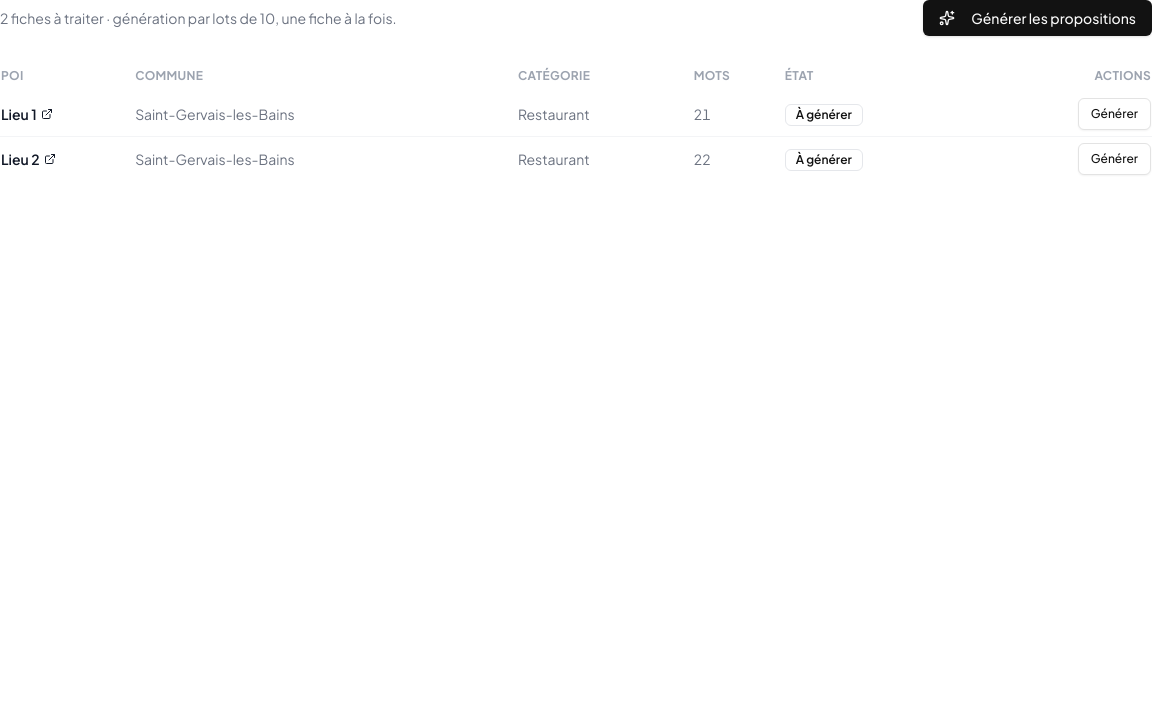
Test case: 098 — file d’enrichissement des descriptions › AC-01-05: insufficient sources show no proposal; « Ignorer » leaves the description untouched
Click the button "Générer" in the row of "Lieu 1". click: (1114, 114)
box: [1078,98,1151,130]
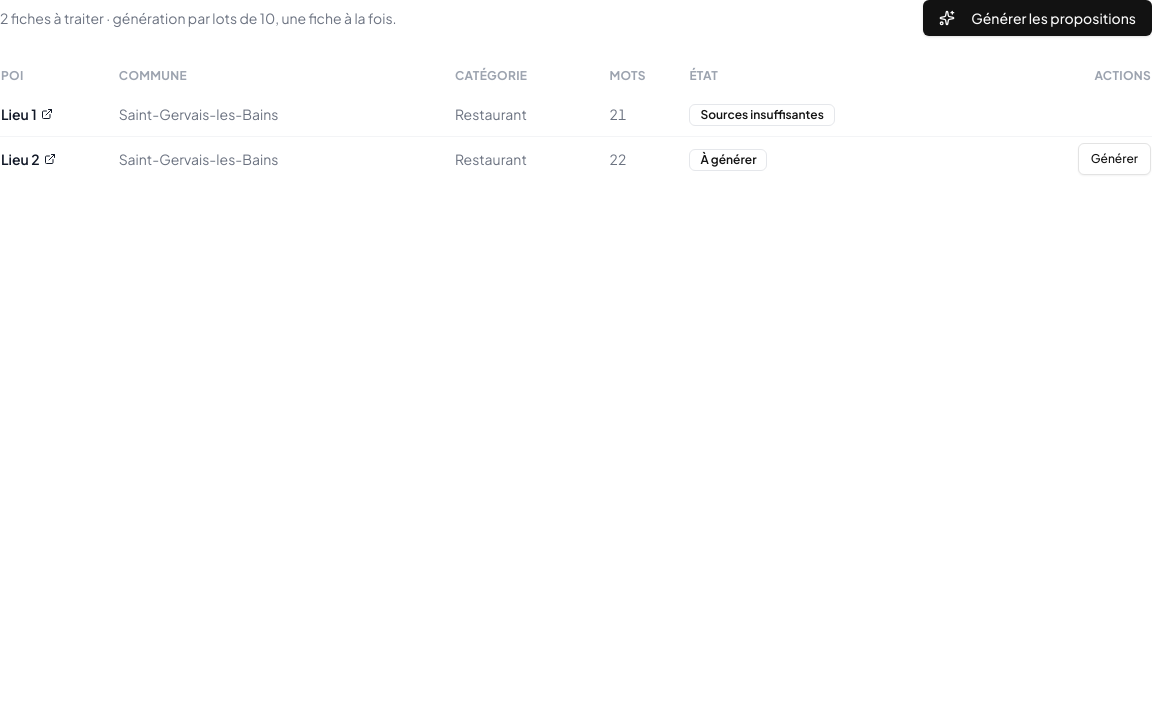
Check: the button "Relire" is not shown
Check: the text "Sources insuffisantes" is shown, box [689,104,835,126]
Click the button "Générer". click: (1114, 159)
box: [1078,143,1151,175]
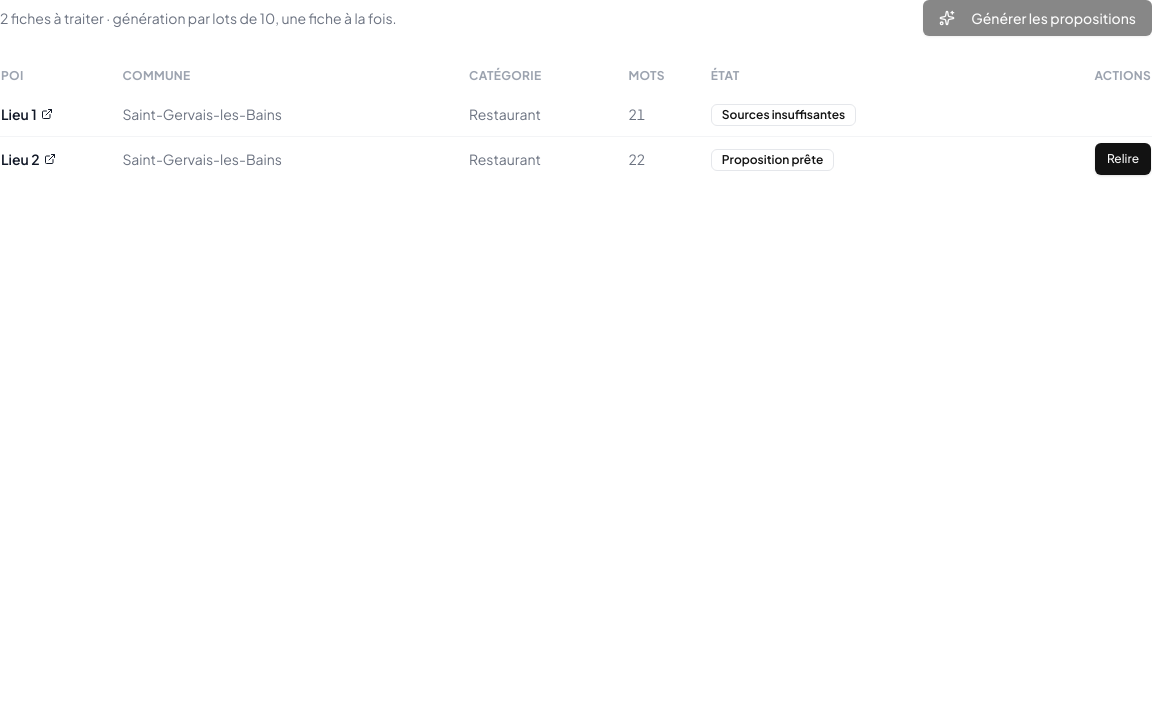
Click the button "Relire". click: (1123, 159)
box: [1095,143,1151,175]
(page scrolled)
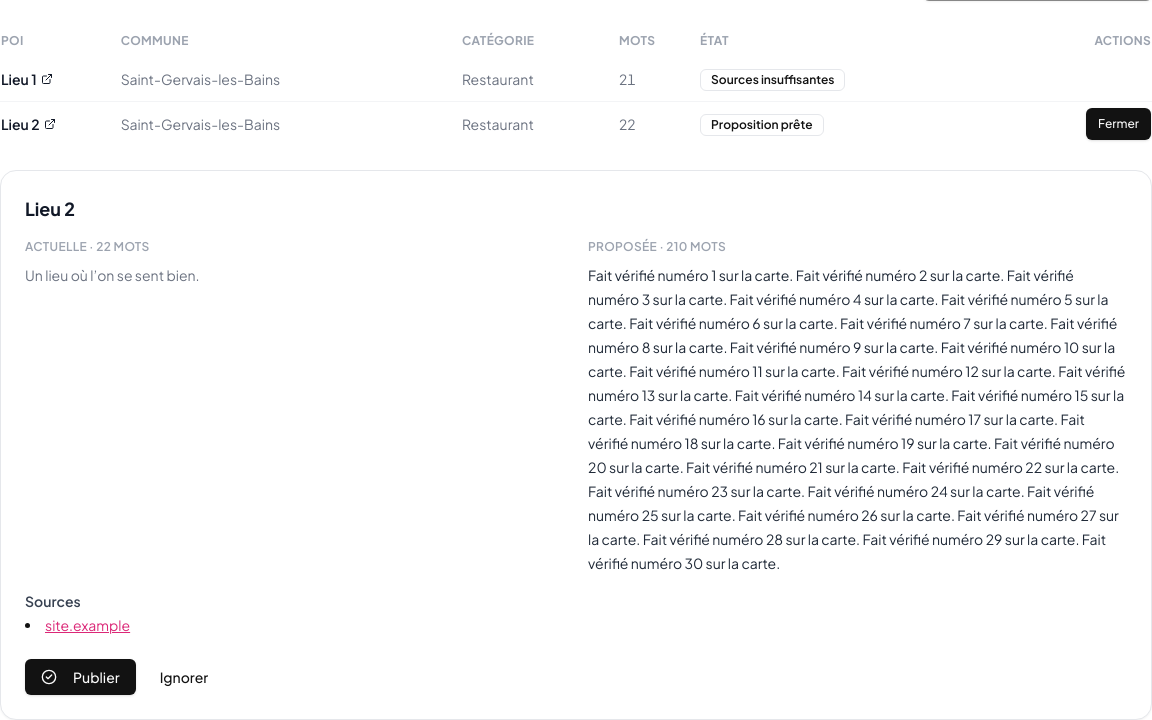
Click the button "Ignorer". click: (184, 677)
box: [144,659,224,695]
(page scrolled)
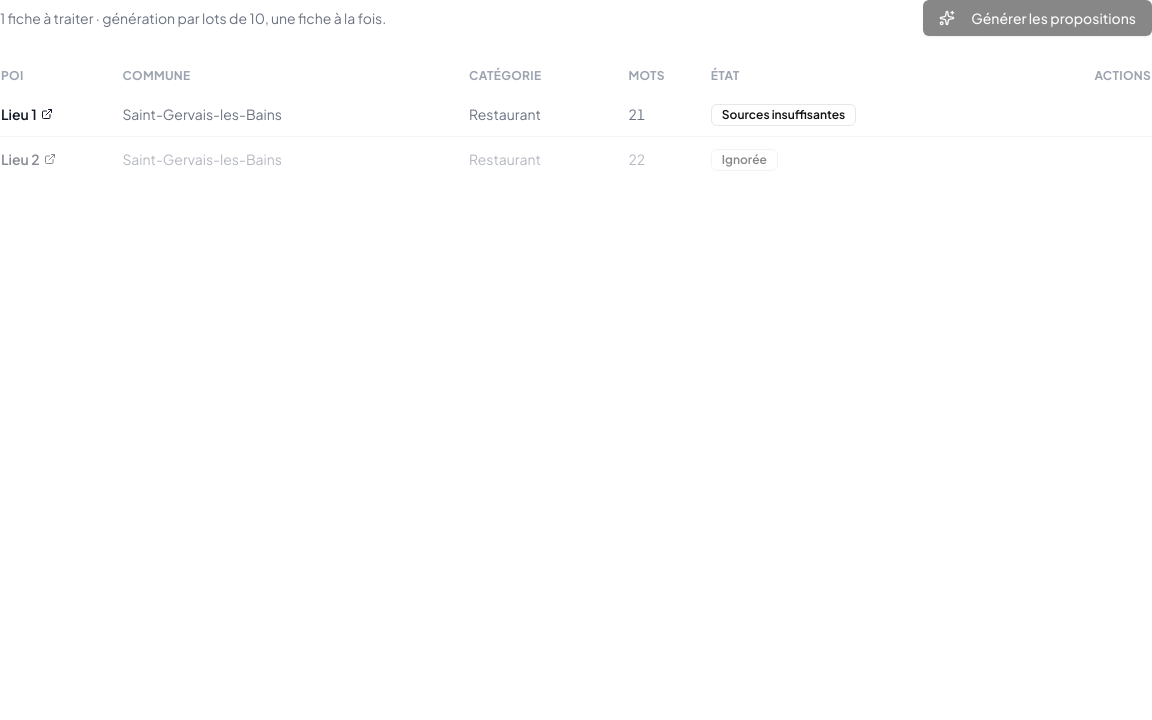
Check: the text "Ignorée" is shown, box [711,148,778,170]
